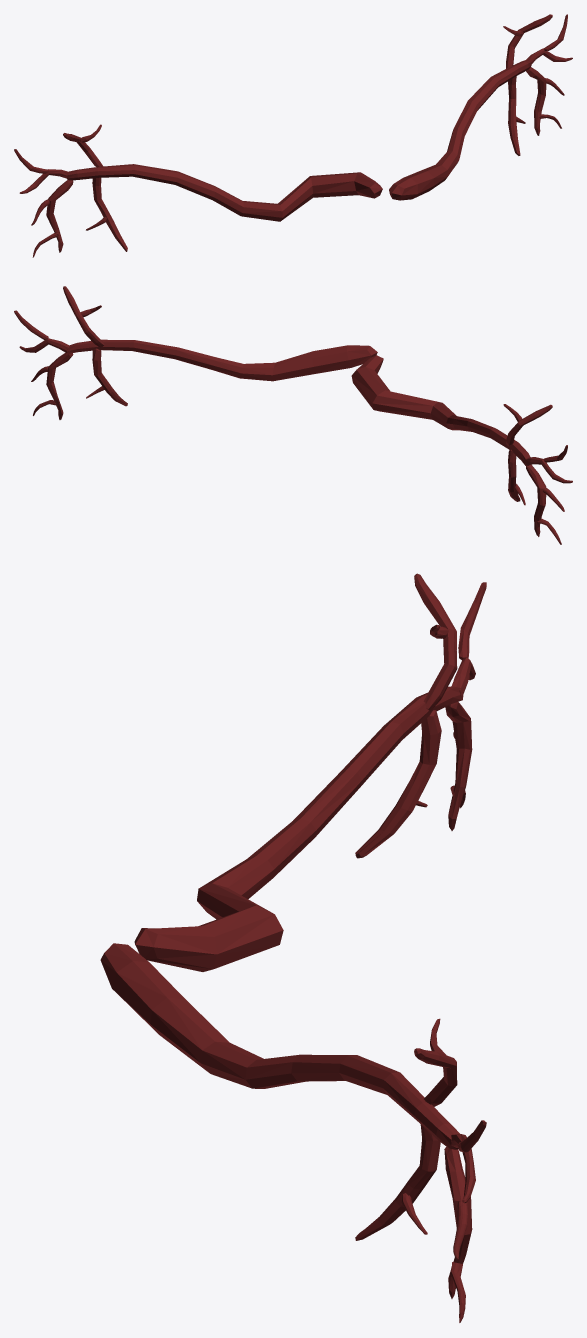
The model's file is Artérias Renales.FBX.
3 renders of one model, top to bottom at view 1: azimuth 30°, elevation 25°; view 2: azimuth 150°, elevation 25°; view 3: azimuth 270°, elevation 25°, orthographic. The views are drawn at different scales.
Visible parts, largest first — view 1: CS_Arterie; view 2: CS_Arterie; view 3: CS_Arterie.
Part boxes in pixels (x1,y1,x2,y2): CS_Arterie: [14, 14, 572, 257]; CS_Arterie: [14, 286, 572, 544]; CS_Arterie: [100, 573, 486, 1322].
Size of the model in its own units: 495 by 109 by 149.
